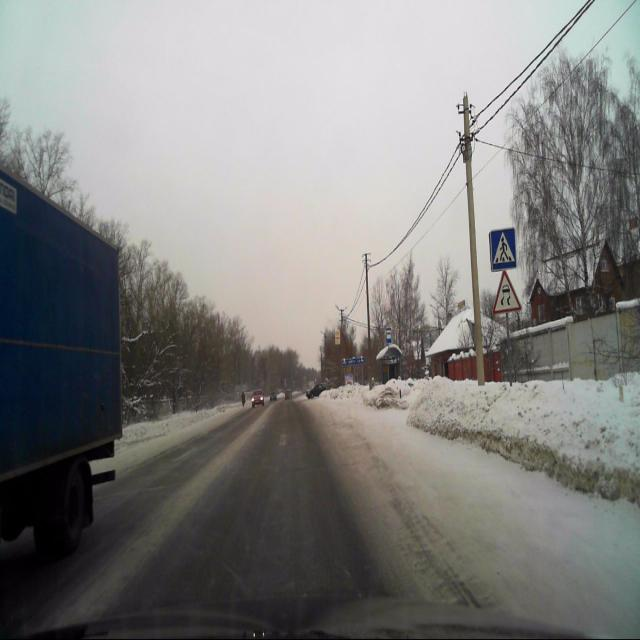road sign: (492, 267, 521, 316), (490, 226, 516, 272)
